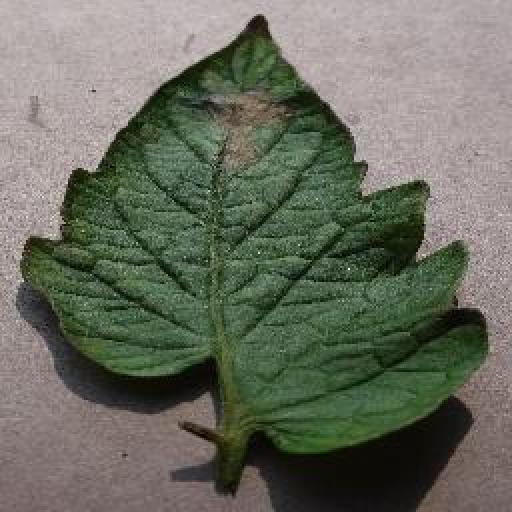Late Blight: (20, 7, 488, 453)
